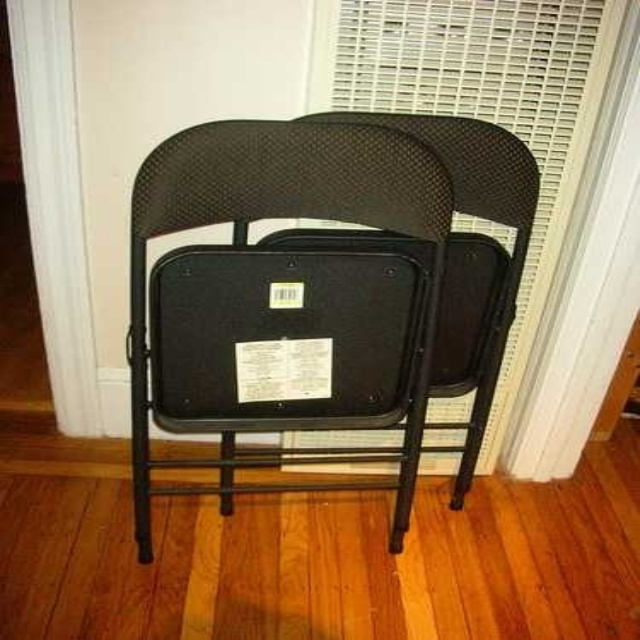obstacle: (128, 113, 538, 562)
